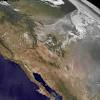smoke: (82, 40, 100, 79)
